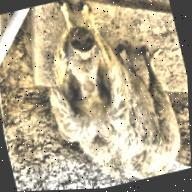boar: (24, 0, 189, 191)
